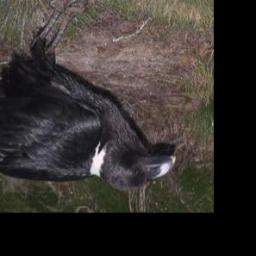Crow: (0, 0, 177, 192)
